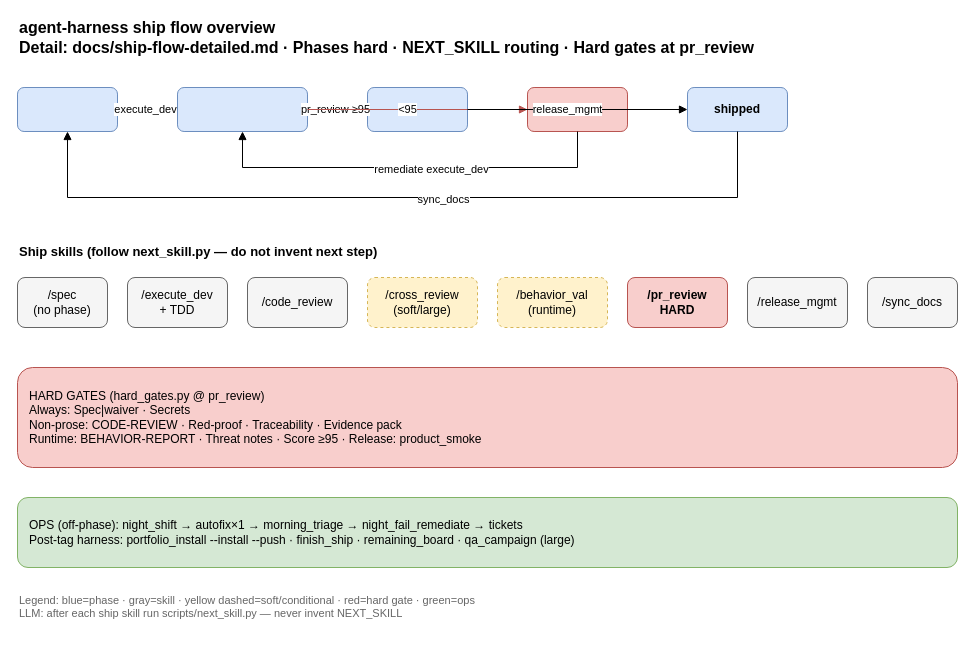
Some shapes in this 975 by 654 pixel diagram are drawn without their labels. The centre of each missing label's shape, as x and y in pixels:
approved: point 417,109
init: point 67,109
ready_for_review: point 242,109
